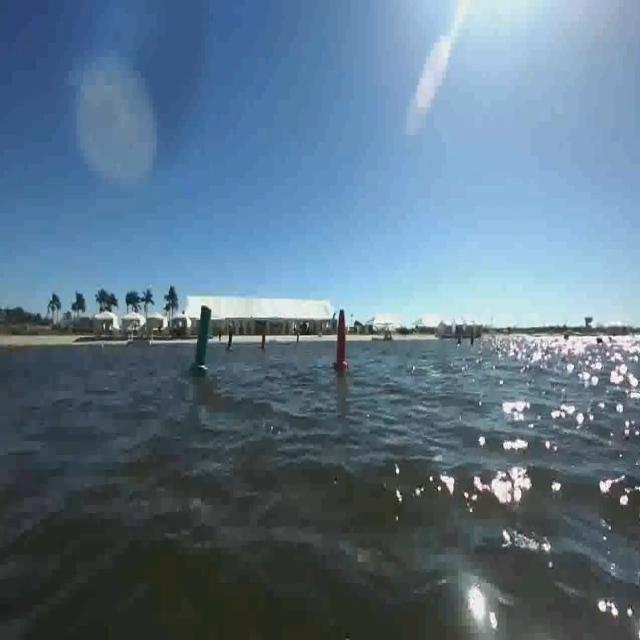green-column-buoy: (189, 305, 213, 375), (225, 329, 235, 354)
red-column-buoy: (334, 310, 351, 370), (261, 328, 270, 352)
